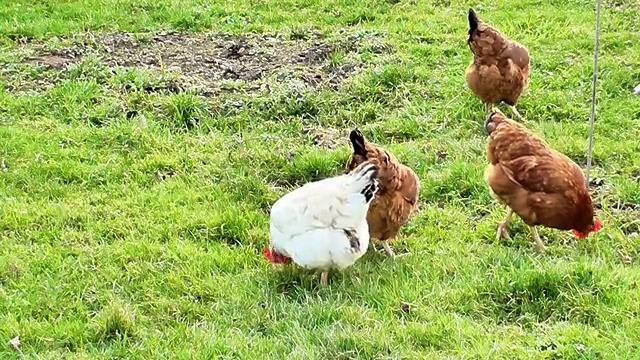AbNormal: (262, 172, 374, 277)
Normal: (488, 113, 602, 247)
